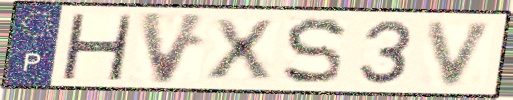3: (356, 18, 415, 88)
H: (58, 11, 136, 82)
S: (280, 15, 350, 87)
V: (136, 9, 213, 87), (423, 19, 499, 90)
X: (204, 16, 278, 82)
